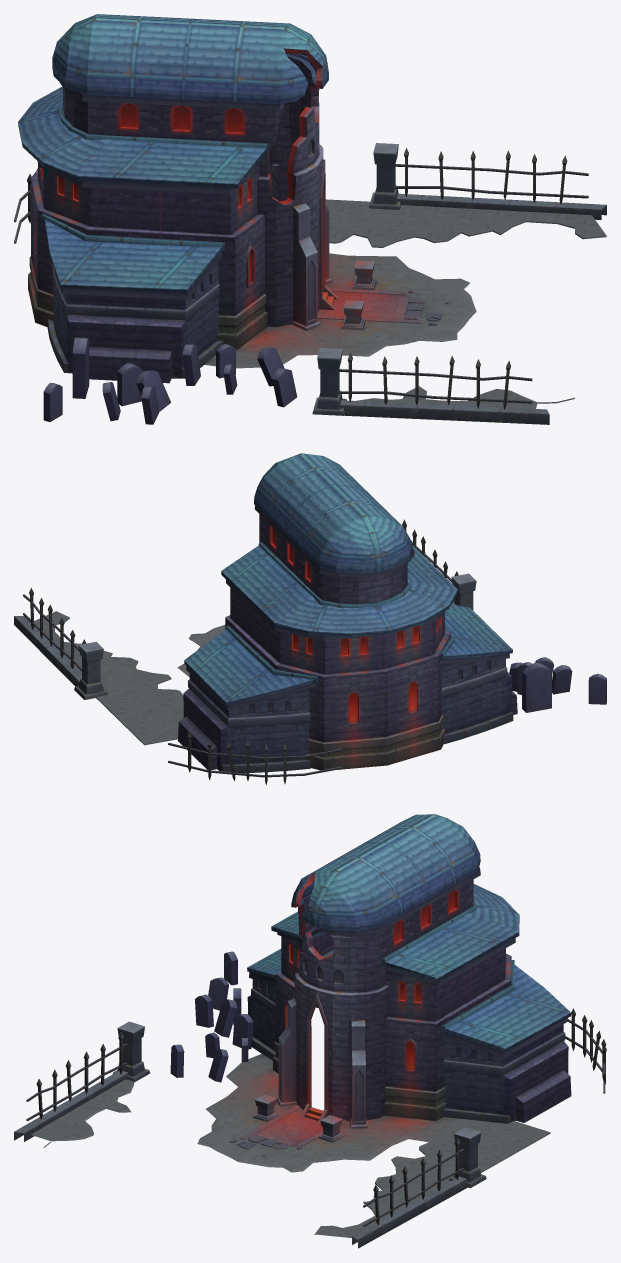
Rendered from Area03_1.fbx.
The picture shows the model from 3 angles, top to bottom: view 1: azimuth 30°, elevation 25°; view 2: azimuth 150°, elevation 25°; view 3: azimuth 270°, elevation 25°; orthographic projection. The views are drawn at different scales.
Parts seen in each view (by area): view 1: Area03_1; view 2: Area03_1; view 3: Area03_1.
Part boxes in pixels (x1,y1,x2,y2): Area03_1: (14, 14, 606, 424); Area03_1: (14, 453, 606, 784); Area03_1: (14, 814, 606, 1248).
Bounding box in the file's own units: 5206 × 2252 × 4883.
